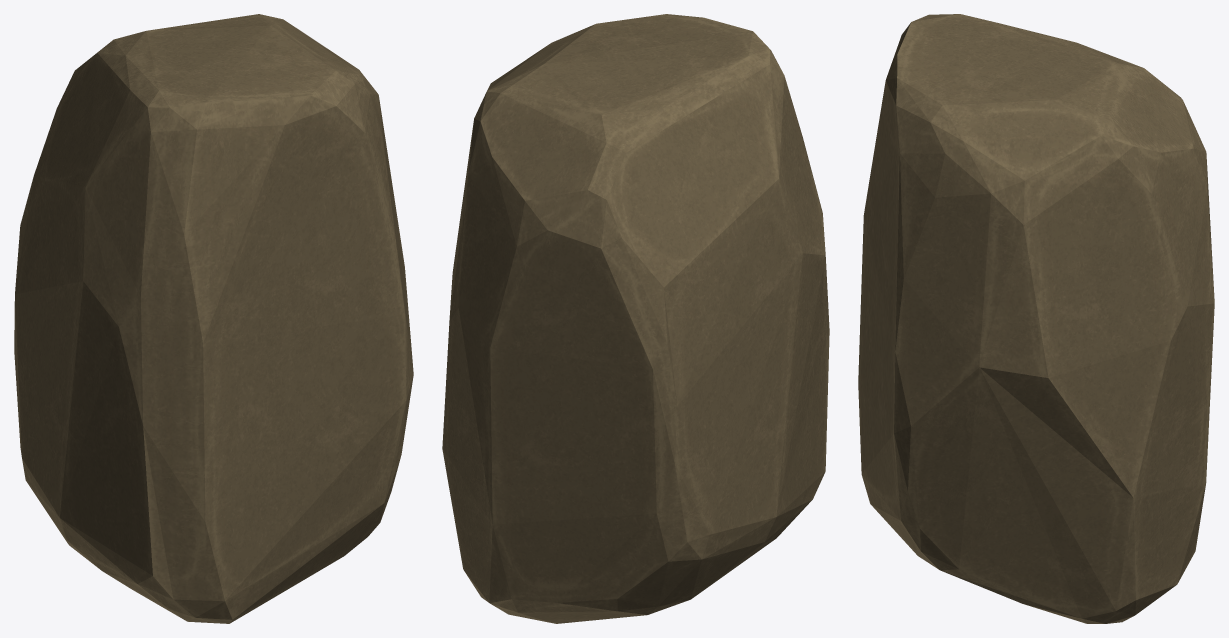
The model's file is ARC0510114.fbx.
3 views of the same model, side by side, from view 1: azimuth 30°, elevation 25°; view 2: azimuth 150°, elevation 25°; view 3: azimuth 270°, elevation 25° (orthographic). The views are drawn at different scales.
Visible parts, largest first — view 1: smARC0510114; view 2: smARC0510114; view 3: smARC0510114.
Part boxes in pixels (x1,y1,x2,y2): smARC0510114: (14,14,413,623); smARC0510114: (442,14,829,623); smARC0510114: (858,14,1214,623).
Size of the model in its own units: 444 by 730 by 440.
Materials: 1 (1 with a texture image).
